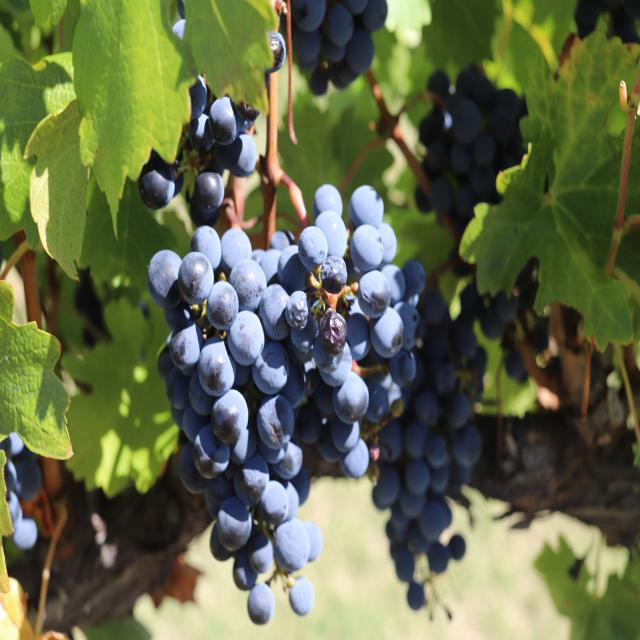grapes: (148, 186, 481, 624), (416, 66, 526, 232), (291, 0, 388, 96)
stem: (259, 71, 309, 248), (365, 69, 430, 195), (412, 92, 431, 101)
